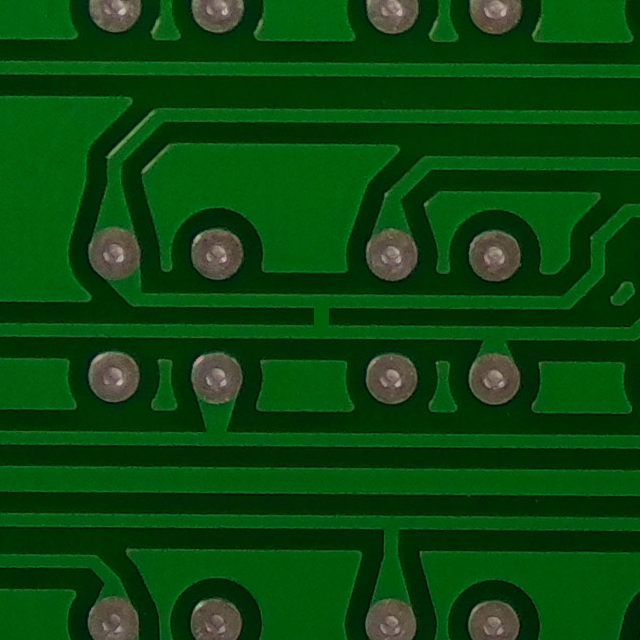short: (298, 285, 342, 356)
